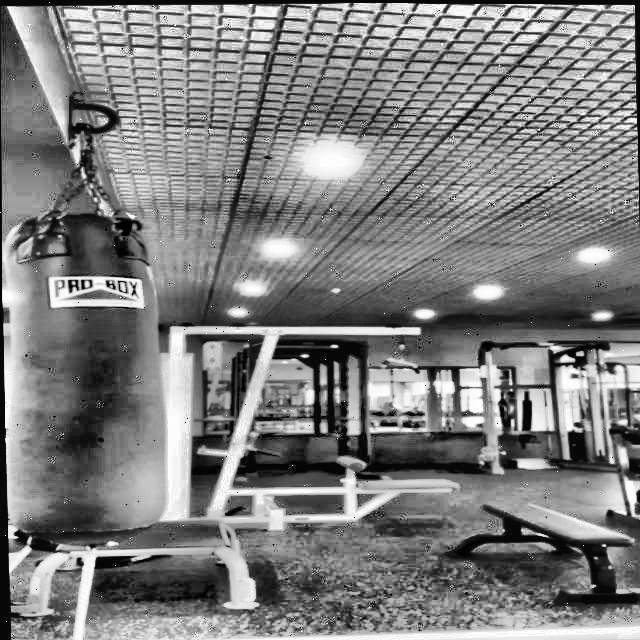boxing-bag: (3, 96, 168, 548)
